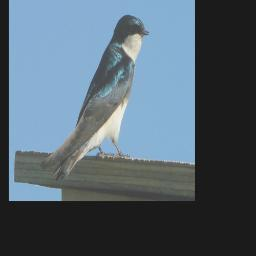Swallow: (39, 13, 150, 183)
